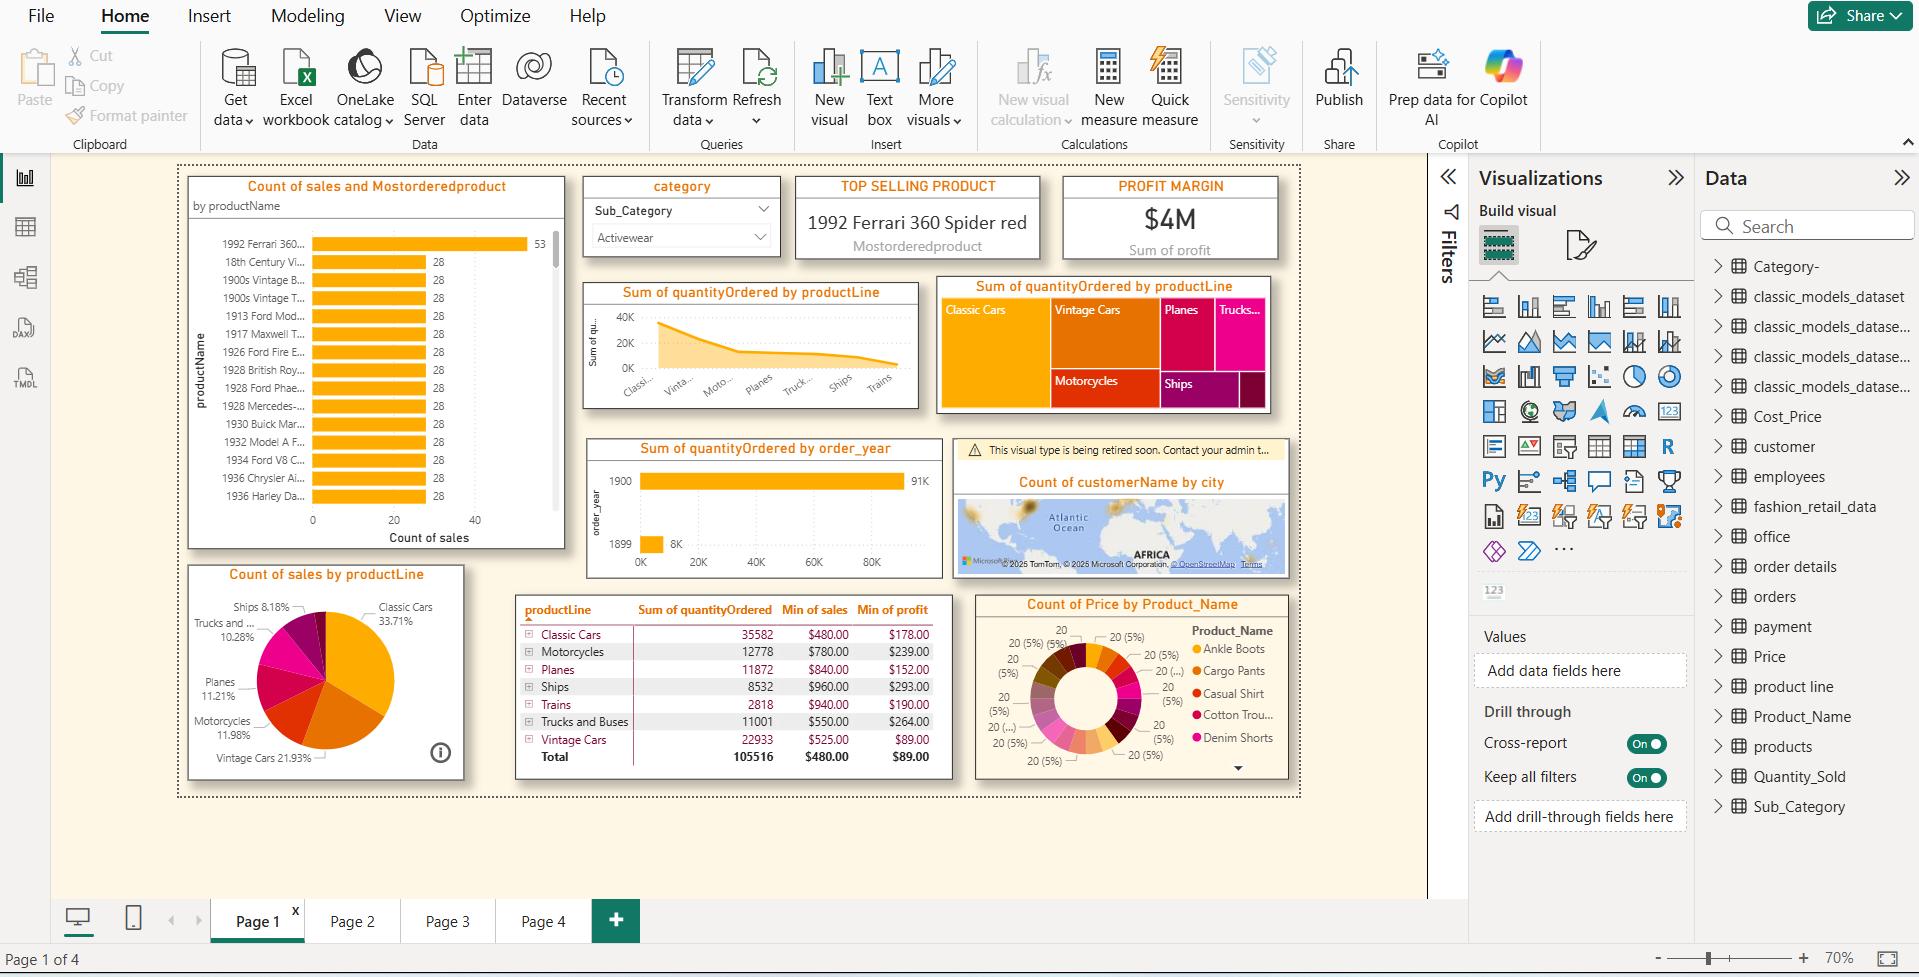

The page's visual inventory and layout, read from the dashboard file:
{"tool":"powerbi","page":{"name":"Page 1","canvas":[1280,720],"ordinal":0},"visuals":[{"type":"barChart","fields":{"Y":["CountNonNull(order details.sales)"],"Category":["products.productName"]},"box":[10,11.2,431.2,426.2],"z":0},{"type":"pieChart","fields":{"Category":["product line.productLine"],"Y":["CountNonNull(order details.sales)"]},"box":[10,455,316.2,246.2],"z":1000},{"type":"pivotTable","fields":{"Rows":["product line.productLine","Product_Name.Product_Name"],"Values":["Sum(order details.quantityOrdered)","Min(order details.sales)","Min(order details.profit )"]},"box":[383.8,490,500,211.2],"z":2000},{"type":"advanceCardE03760C5AB684758B56AA29F9E6C257B","title":"PROFIT MARGIN","fields":{"mainMeasure":["Sum(order details.profit )"]},"box":[1010,11.2,246.2,95],"z":3000},{"type":"advanceCardE03760C5AB684758B56AA29F9E6C257B","title":"TOP SELLING PRODUCT","fields":{"mainMeasure":["order details.Mostorderedproduct"]},"box":[705,11.2,280,95],"z":4000},{"type":"map","fields":{"Category":["customer.city"],"Size":["CountNonNull(customer.customerName)"]},"box":[883.8,311.2,385,160],"z":5000},{"type":"donutChart","fields":{"Category":["Product_Name.Product_Name"],"Y":["CountNonNull(Price.Price)"]},"box":[910,490,358.8,211.2],"z":6000},{"type":"treemap","fields":{"Group":["products.productLine"],"Values":["Sum(order details.quantityOrdered)"]},"box":[865,126.2,382.5,157.5],"z":7000},{"type":"barChart","fields":{"Category":["orders.order_year"],"Y":["Sum(order details.quantityOrdered)"]},"box":[466.2,311.2,407.5,160],"z":8000},{"type":"areaChart","fields":{"Category":["products.productLine"],"Y":["Sum(order details.quantityOrdered)"]},"box":[461.2,132.5,383.8,145],"z":9000},{"type":"slicer","title":"category","fields":{"Values":["Sub_Category.Sub_Category"]},"box":[461.2,11.2,226.2,92.5],"z":10000},{"type":"actionButton","box":[282.5,653.8,52.5,32.5],"z":11000}]}

Visuals, with their boxes on the page's 1280x720 design canvas (x1, y1, x2, y2). These are canvas units, not pixel positions in the 1919x977 screenshot, which may show the page scaled, cropped or inside an application window:
barChart - CountNonNull(order details.sales) x products.productName: {"left": 10, "top": 11, "right": 441, "bottom": 437}
pieChart - product line.productLine x CountNonNull(order details.sales): {"left": 10, "top": 455, "right": 326, "bottom": 701}
pivotTable - product line.productLine x Product_Name.Product_Name: {"left": 384, "top": 490, "right": 884, "bottom": 701}
"PROFIT MARGIN" advanceCardE03760C5AB684758B56AA29F9E6C257B: {"left": 1010, "top": 11, "right": 1256, "bottom": 106}
"TOP SELLING PRODUCT" advanceCardE03760C5AB684758B56AA29F9E6C257B: {"left": 705, "top": 11, "right": 985, "bottom": 106}
map - customer.city x CountNonNull(customer.customerName): {"left": 884, "top": 311, "right": 1269, "bottom": 471}
donutChart - Product_Name.Product_Name x CountNonNull(Price.Price): {"left": 910, "top": 490, "right": 1269, "bottom": 701}
treemap - products.productLine x Sum(order details.quantityOrdered): {"left": 865, "top": 126, "right": 1248, "bottom": 284}
barChart - orders.order_year x Sum(order details.quantityOrdered): {"left": 466, "top": 311, "right": 874, "bottom": 471}
areaChart - products.productLine x Sum(order details.quantityOrdered): {"left": 461, "top": 132, "right": 845, "bottom": 278}
"category" slicer: {"left": 461, "top": 11, "right": 687, "bottom": 104}
actionButton: {"left": 282, "top": 654, "right": 335, "bottom": 686}
